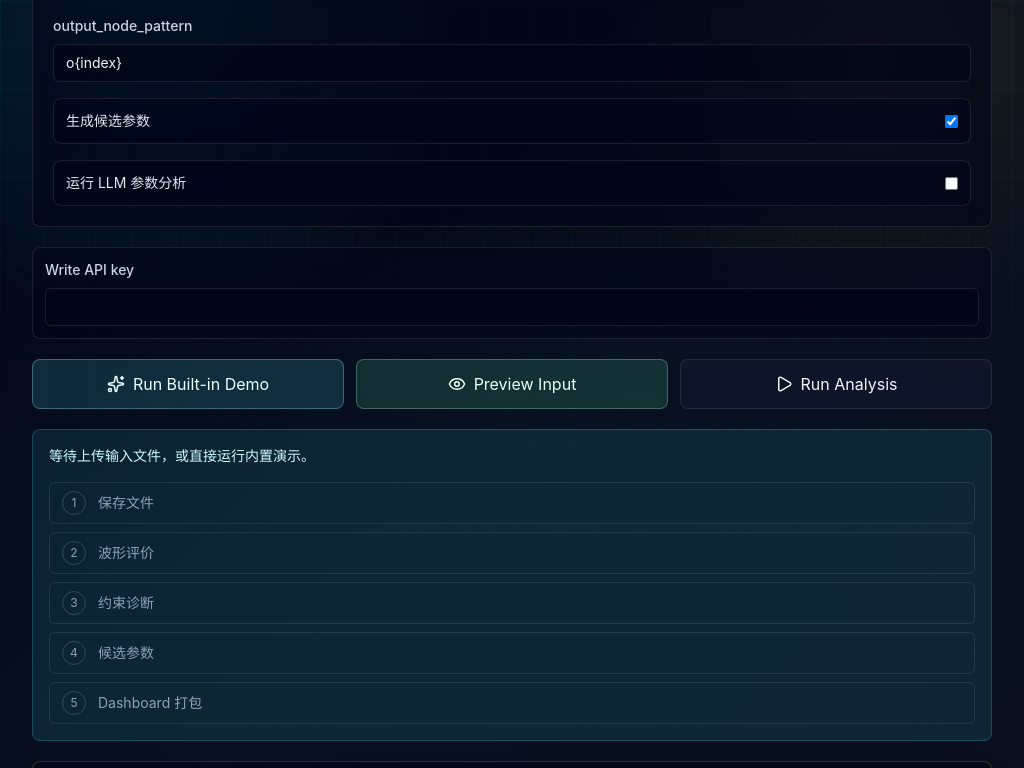
it: UploadWorkspace › does not submit without waveform.csv
(page scrolled)
What coordinates should you click on to do the following:
click the button "Run Analysis"
I would click on:
 (836, 384)
Its box is top-left (680, 359), bottom-right (992, 409).
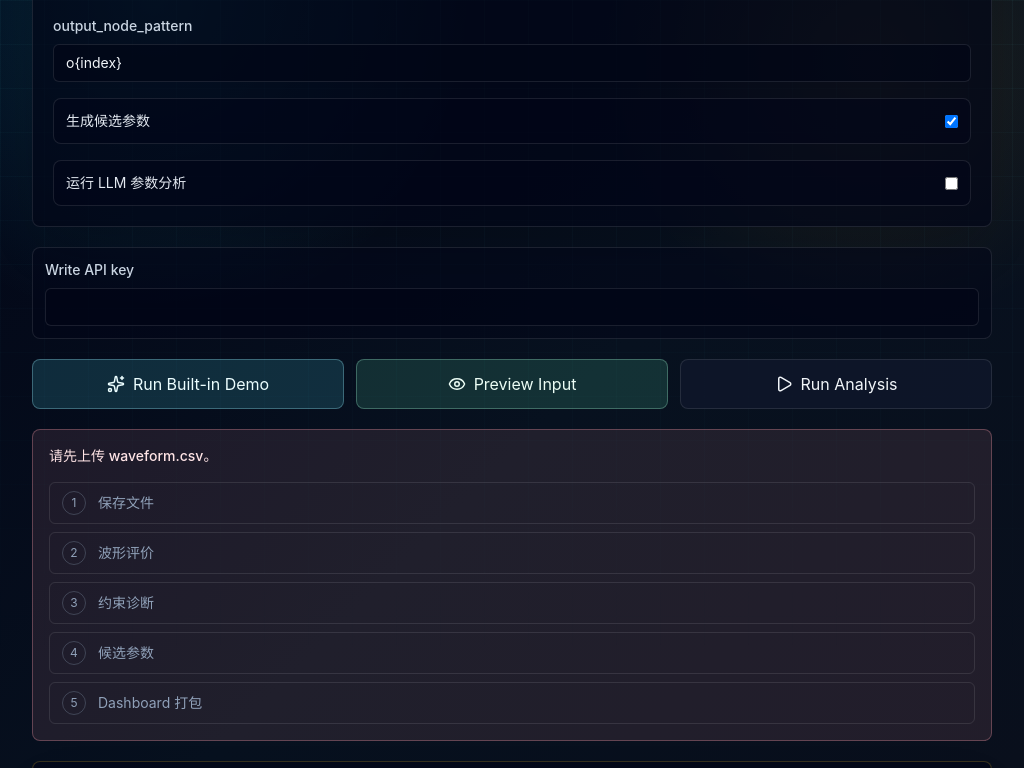
expect the text "请先上传 waveform.csv。" is shown: met, box top-left (49, 447), bottom-right (217, 464)
